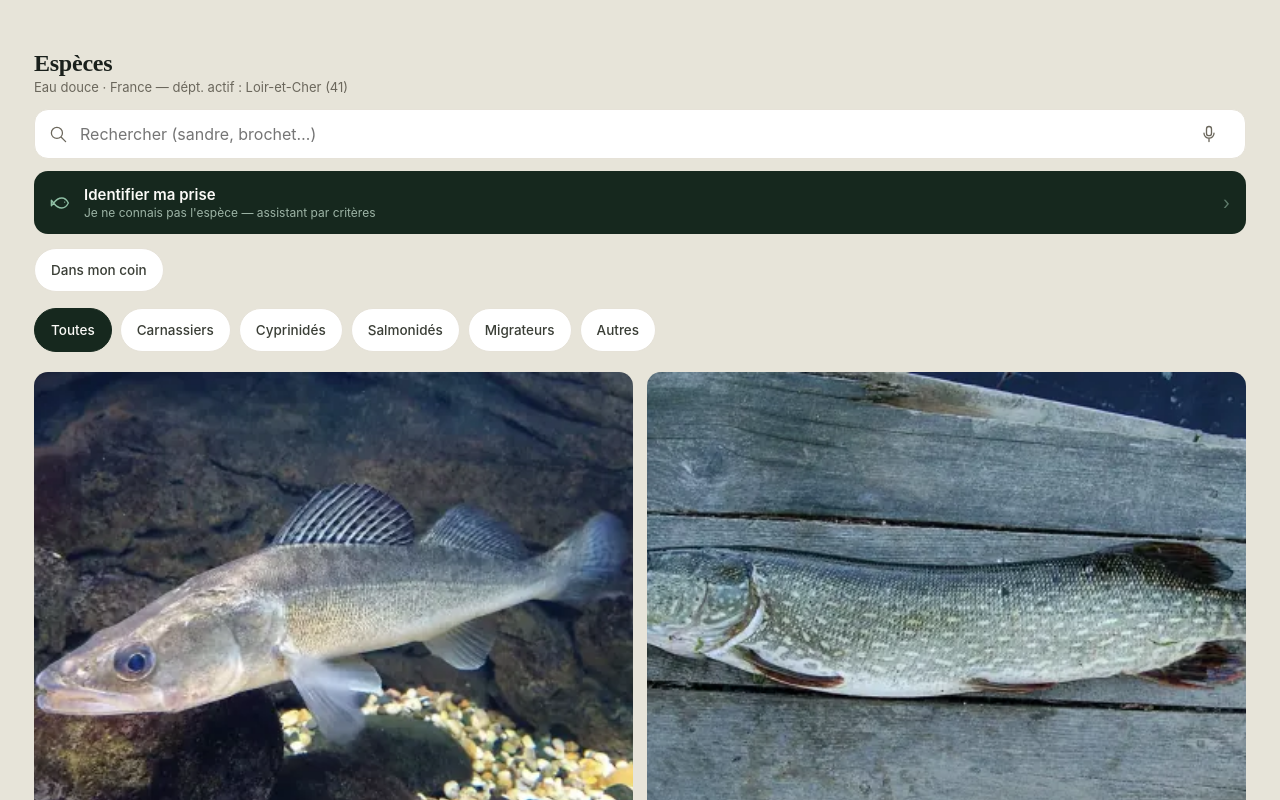
Test: Especes — filtre du coin › relaie le refus de géolocalisation tel quel
This screenshot has width=1280, height=800.
Click the button "Dans mon coin" at (99, 270), box [34,248,164,292]
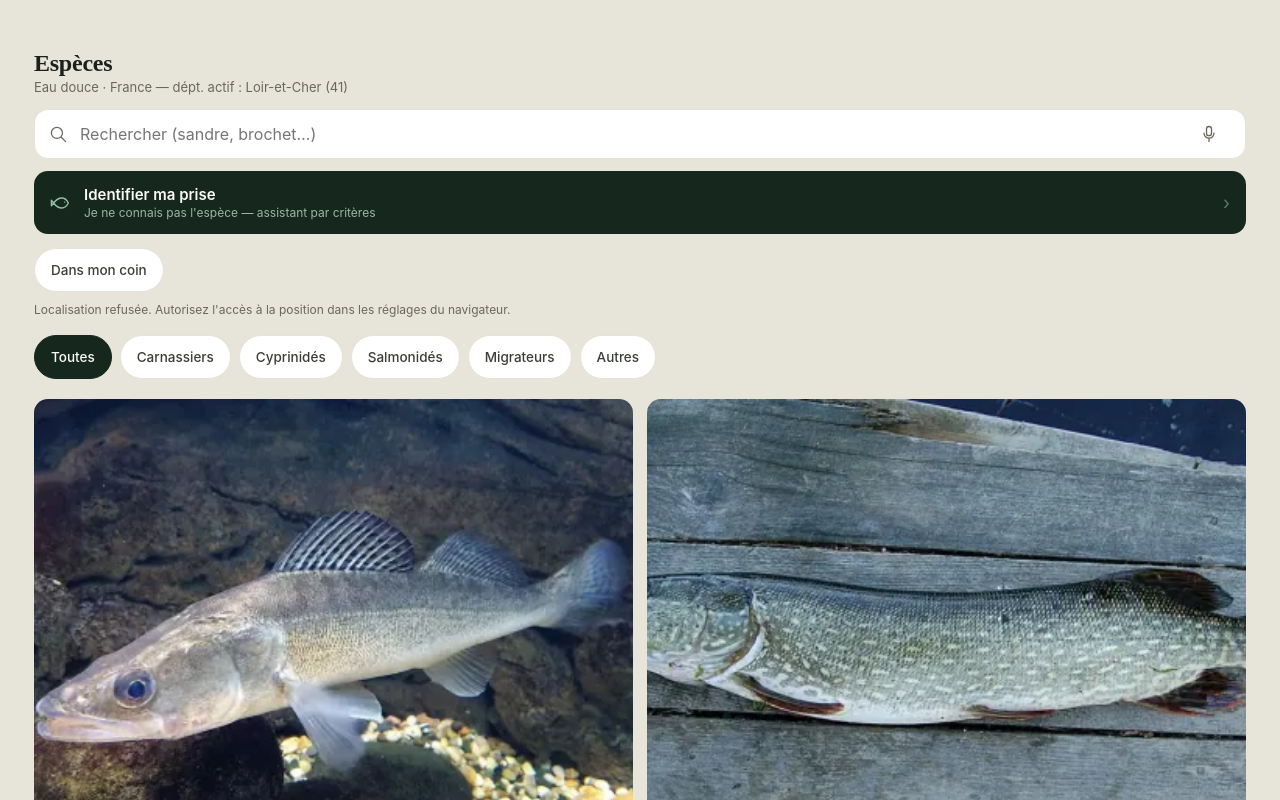
Check: the text "Localisation refusée" is shown, box [34,302,510,317]
